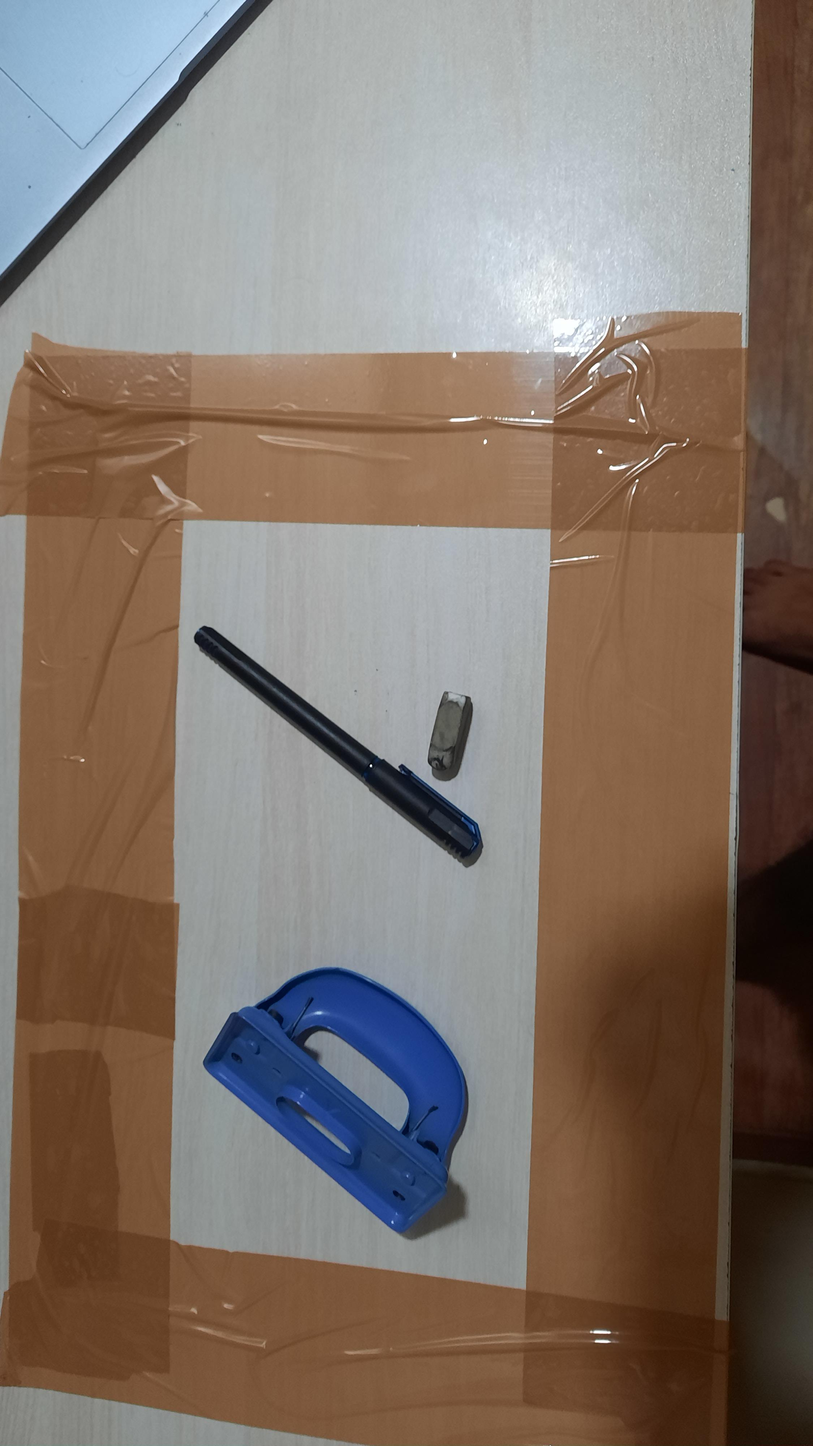Eraser: (429, 690, 473, 782)
Pen: (193, 625, 483, 868)
Punch: (203, 967, 467, 1234)
